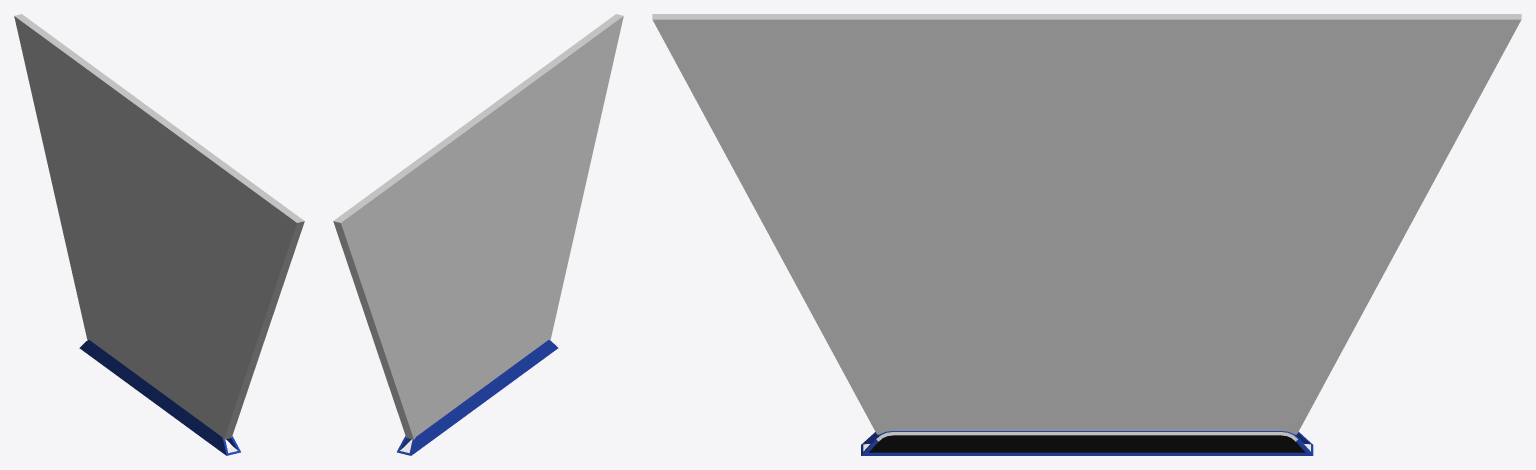
3 views of the same model, side by side, from view 1: azimuth 30°, elevation 25°; view 2: azimuth 150°, elevation 25°; view 3: azimuth 270°, elevation 25° (orthographic). The views are drawn at different scales.
Visible parts, largest first — view 1: Box001, Props_Hologram00; view 2: Box001, Props_Hologram00; view 3: Box001, Props_Hologram00.
Part boxes in pixels (x1,y1,x2,y2): Box001: (14,14,304,439); Props_Hologram00: (79,340,240,455); Box001: (333,14,623,439); Props_Hologram00: (397,340,558,455); Box001: (652,14,1521,434); Props_Hologram00: (861,431,1313,455).
Bounding box in the file's own units: 260 × 4766 × 8670.
